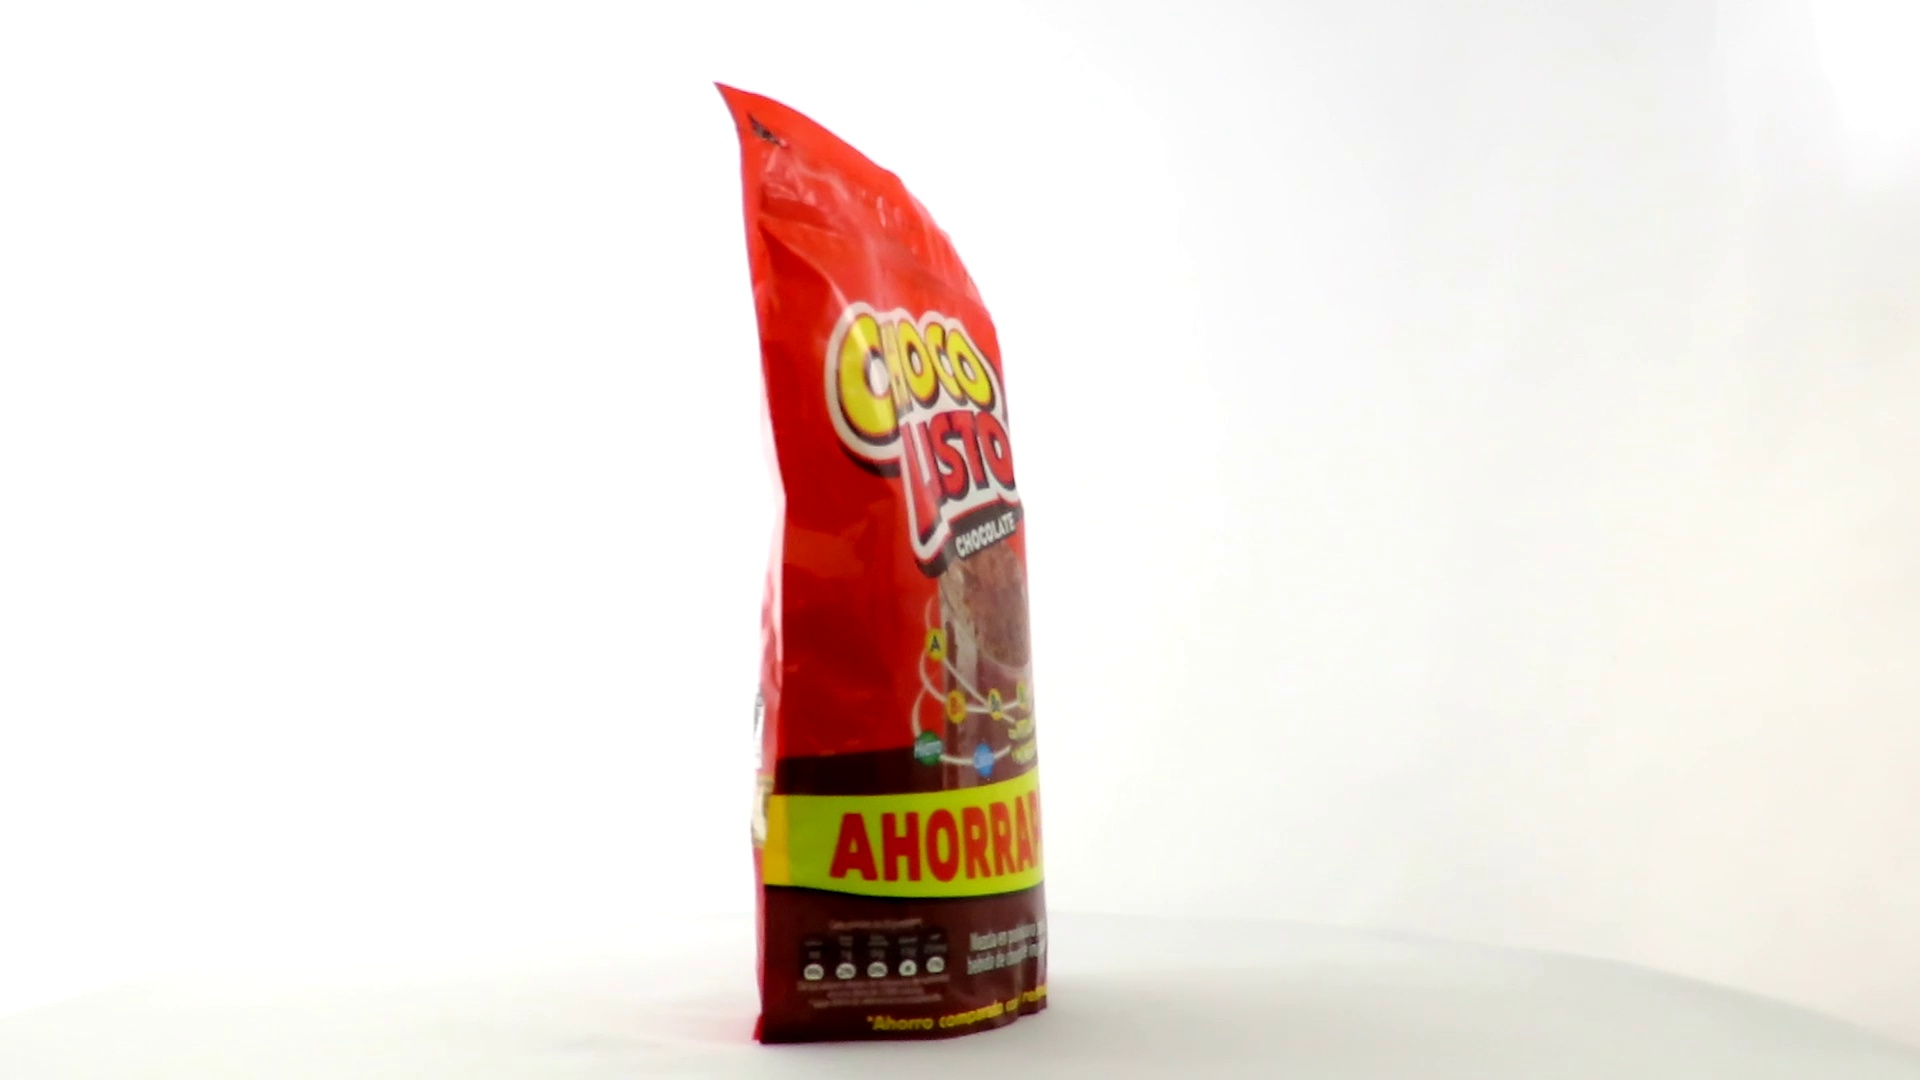COL0170103DYP36000: (708, 76, 1054, 1051)
